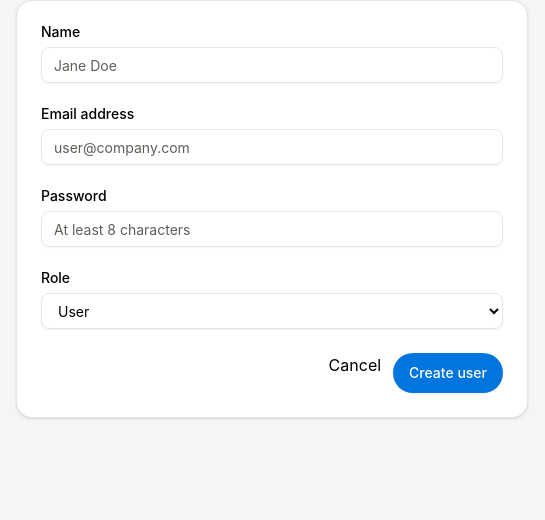
Test: CreateUserForm › validations › shows validation errors for empty required fields
Clear the field labelled "Name": (272, 65) [41,47,503,83]
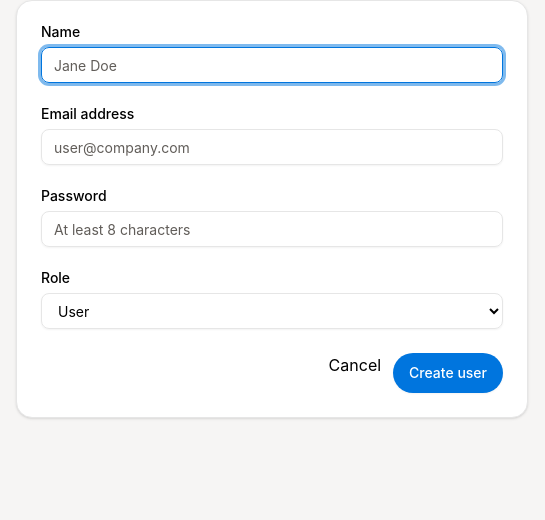
Clear the field labelled "Email address": (272, 147) [41,129,503,165]
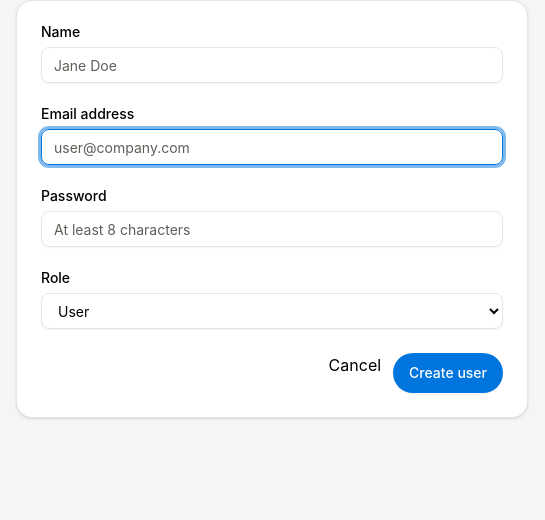
Clear the password field labelled "Password": (272, 229) [41,211,503,247]
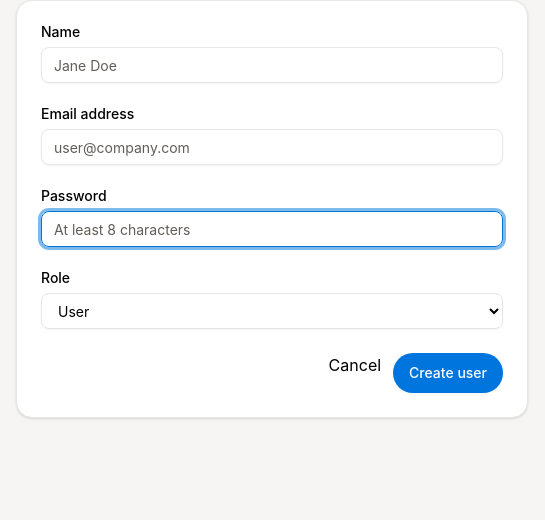
Click the button "Create user": (448, 373) [393,353,503,393]
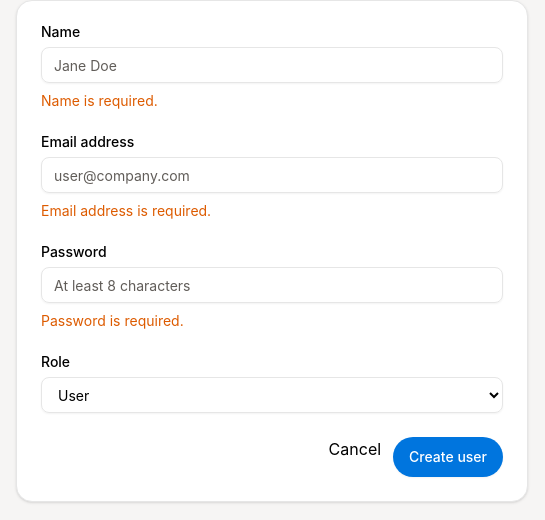
Expected: the text "Name is required." is shown, [41,92,158,109]
Expected: the text "Email address is required." is shown, [41,202,211,219]
Expected: the text "Password is required." is shown, [41,312,184,329]
